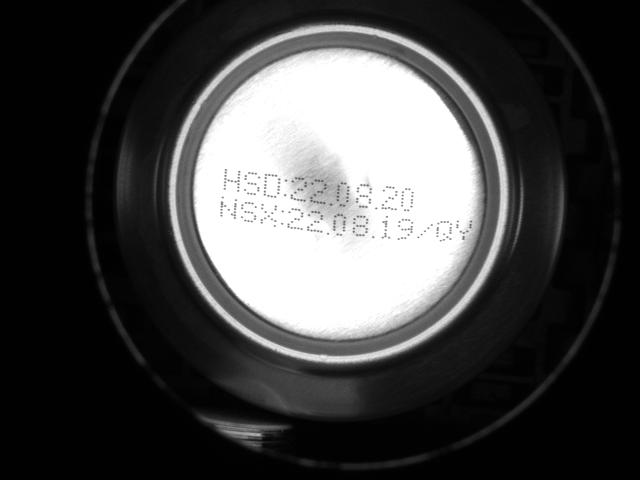.: (328, 194, 336, 209), (323, 222, 331, 237), (372, 195, 380, 210), (368, 226, 376, 241)
/: (415, 221, 434, 239)
0: (335, 179, 351, 209), (331, 209, 347, 239), (399, 183, 415, 213)
1: (379, 212, 393, 240)
2: (289, 172, 308, 203), (286, 204, 305, 235), (308, 175, 327, 206), (305, 207, 324, 238), (379, 181, 398, 212)
8: (354, 180, 373, 210), (351, 213, 370, 243)
9: (396, 216, 414, 242)
:: (281, 175, 289, 199), (278, 204, 286, 228)
D: (262, 170, 281, 200)
H: (221, 165, 242, 194)
N: (218, 193, 239, 221)
Q: (434, 218, 454, 244)
S: (243, 167, 261, 198), (239, 196, 257, 227)
X: (258, 200, 278, 231)
Y: (454, 215, 473, 241)
